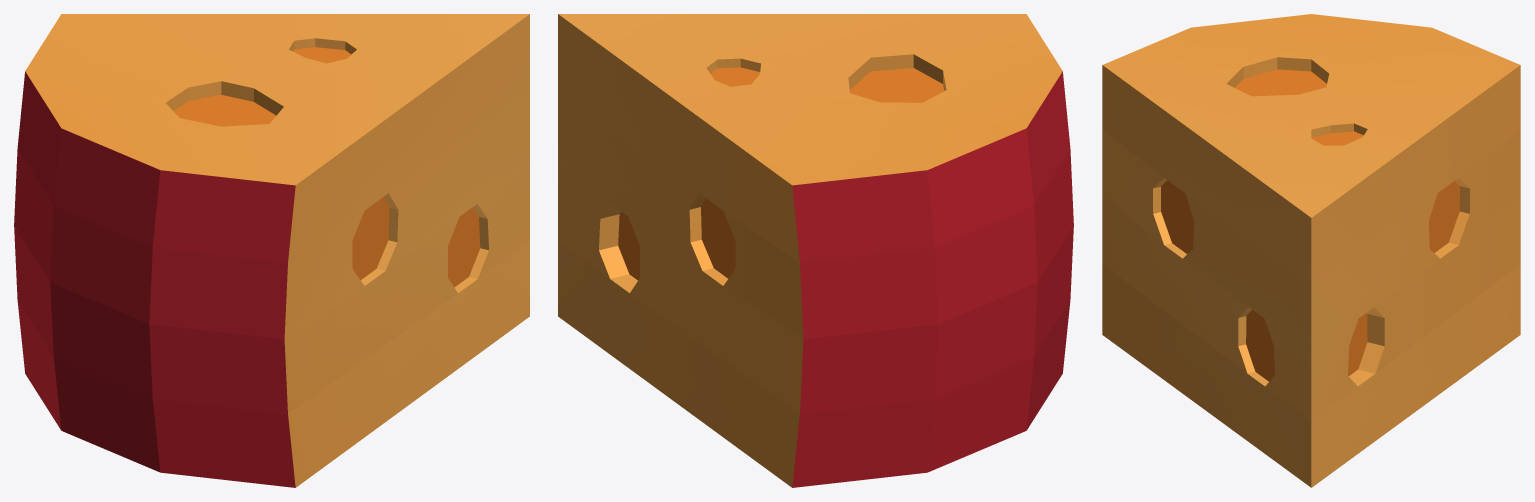
The model's file is Cheese.fbx.
3 views of the same model, side by side, from view 1: azimuth 30°, elevation 25°; view 2: azimuth 150°, elevation 25°; view 3: azimuth 270°, elevation 25° (orthographic). The views are drawn at different scales.
Parts seen in each view (by area): view 1: Cheese; view 2: Cheese; view 3: Cheese.
Boxes of the visible parts, bbox=[...] form: Cheese: bbox=[14, 14, 529, 487]; Cheese: bbox=[558, 14, 1073, 487]; Cheese: bbox=[1102, 14, 1520, 487].
Size of the model in its own units: 78.73 by 47.45 by 66.6.
